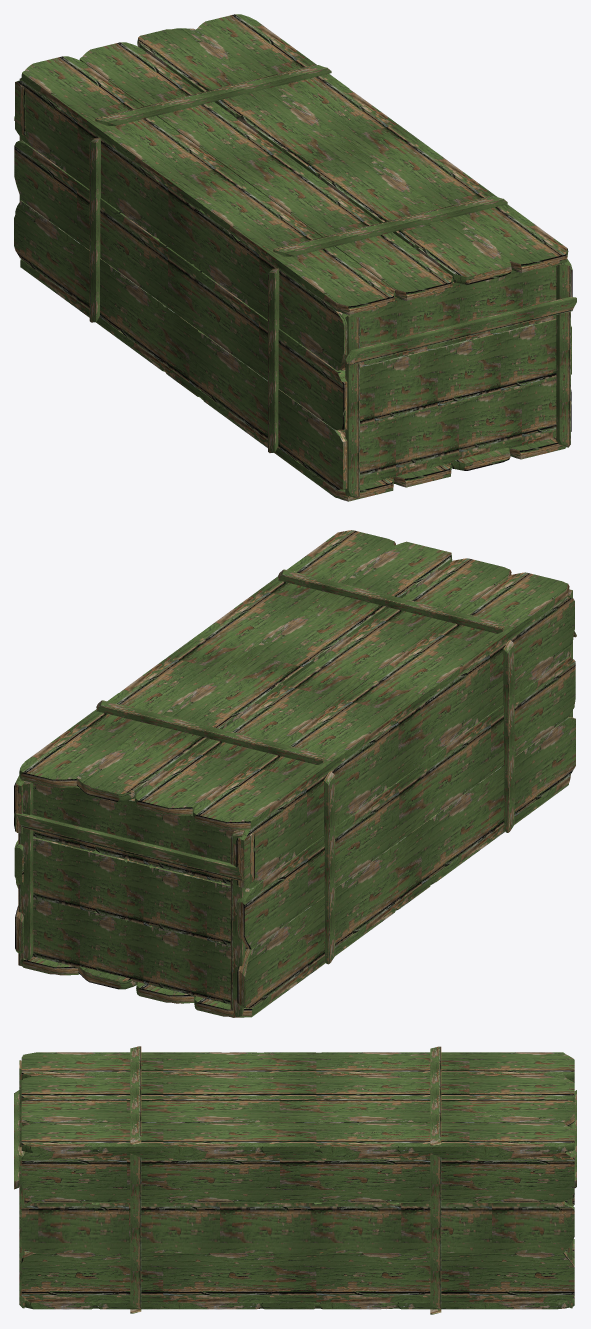
Rendered from War_box.fbx.
3 renders of one model, top to bottom at view 1: azimuth 30°, elevation 25°; view 2: azimuth 150°, elevation 25°; view 3: azimuth 270°, elevation 25°, orthographic. The views are drawn at different scales.
Parts seen in each view (by area): view 1: Plane.003_dmg.010; view 2: Plane.003_dmg.010; view 3: Plane.003_dmg.010.
Part boxes in pixels (x1,y1,x2,y2): Plane.003_dmg.010: (14,14,576,501); Plane.003_dmg.010: (14,530,576,1017); Plane.003_dmg.010: (14,1046,576,1314).
Size of the model in its own units: 83.43 by 69.25 by 204.
1 material, 1 textured.
